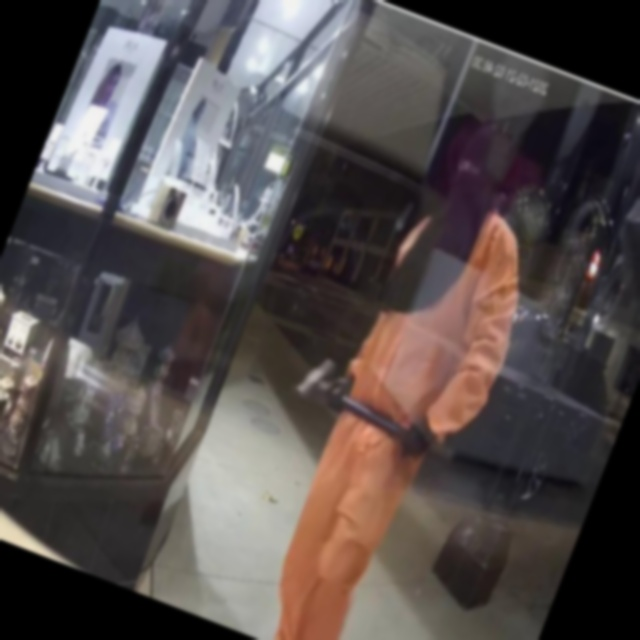gun: (286, 344, 475, 477)
